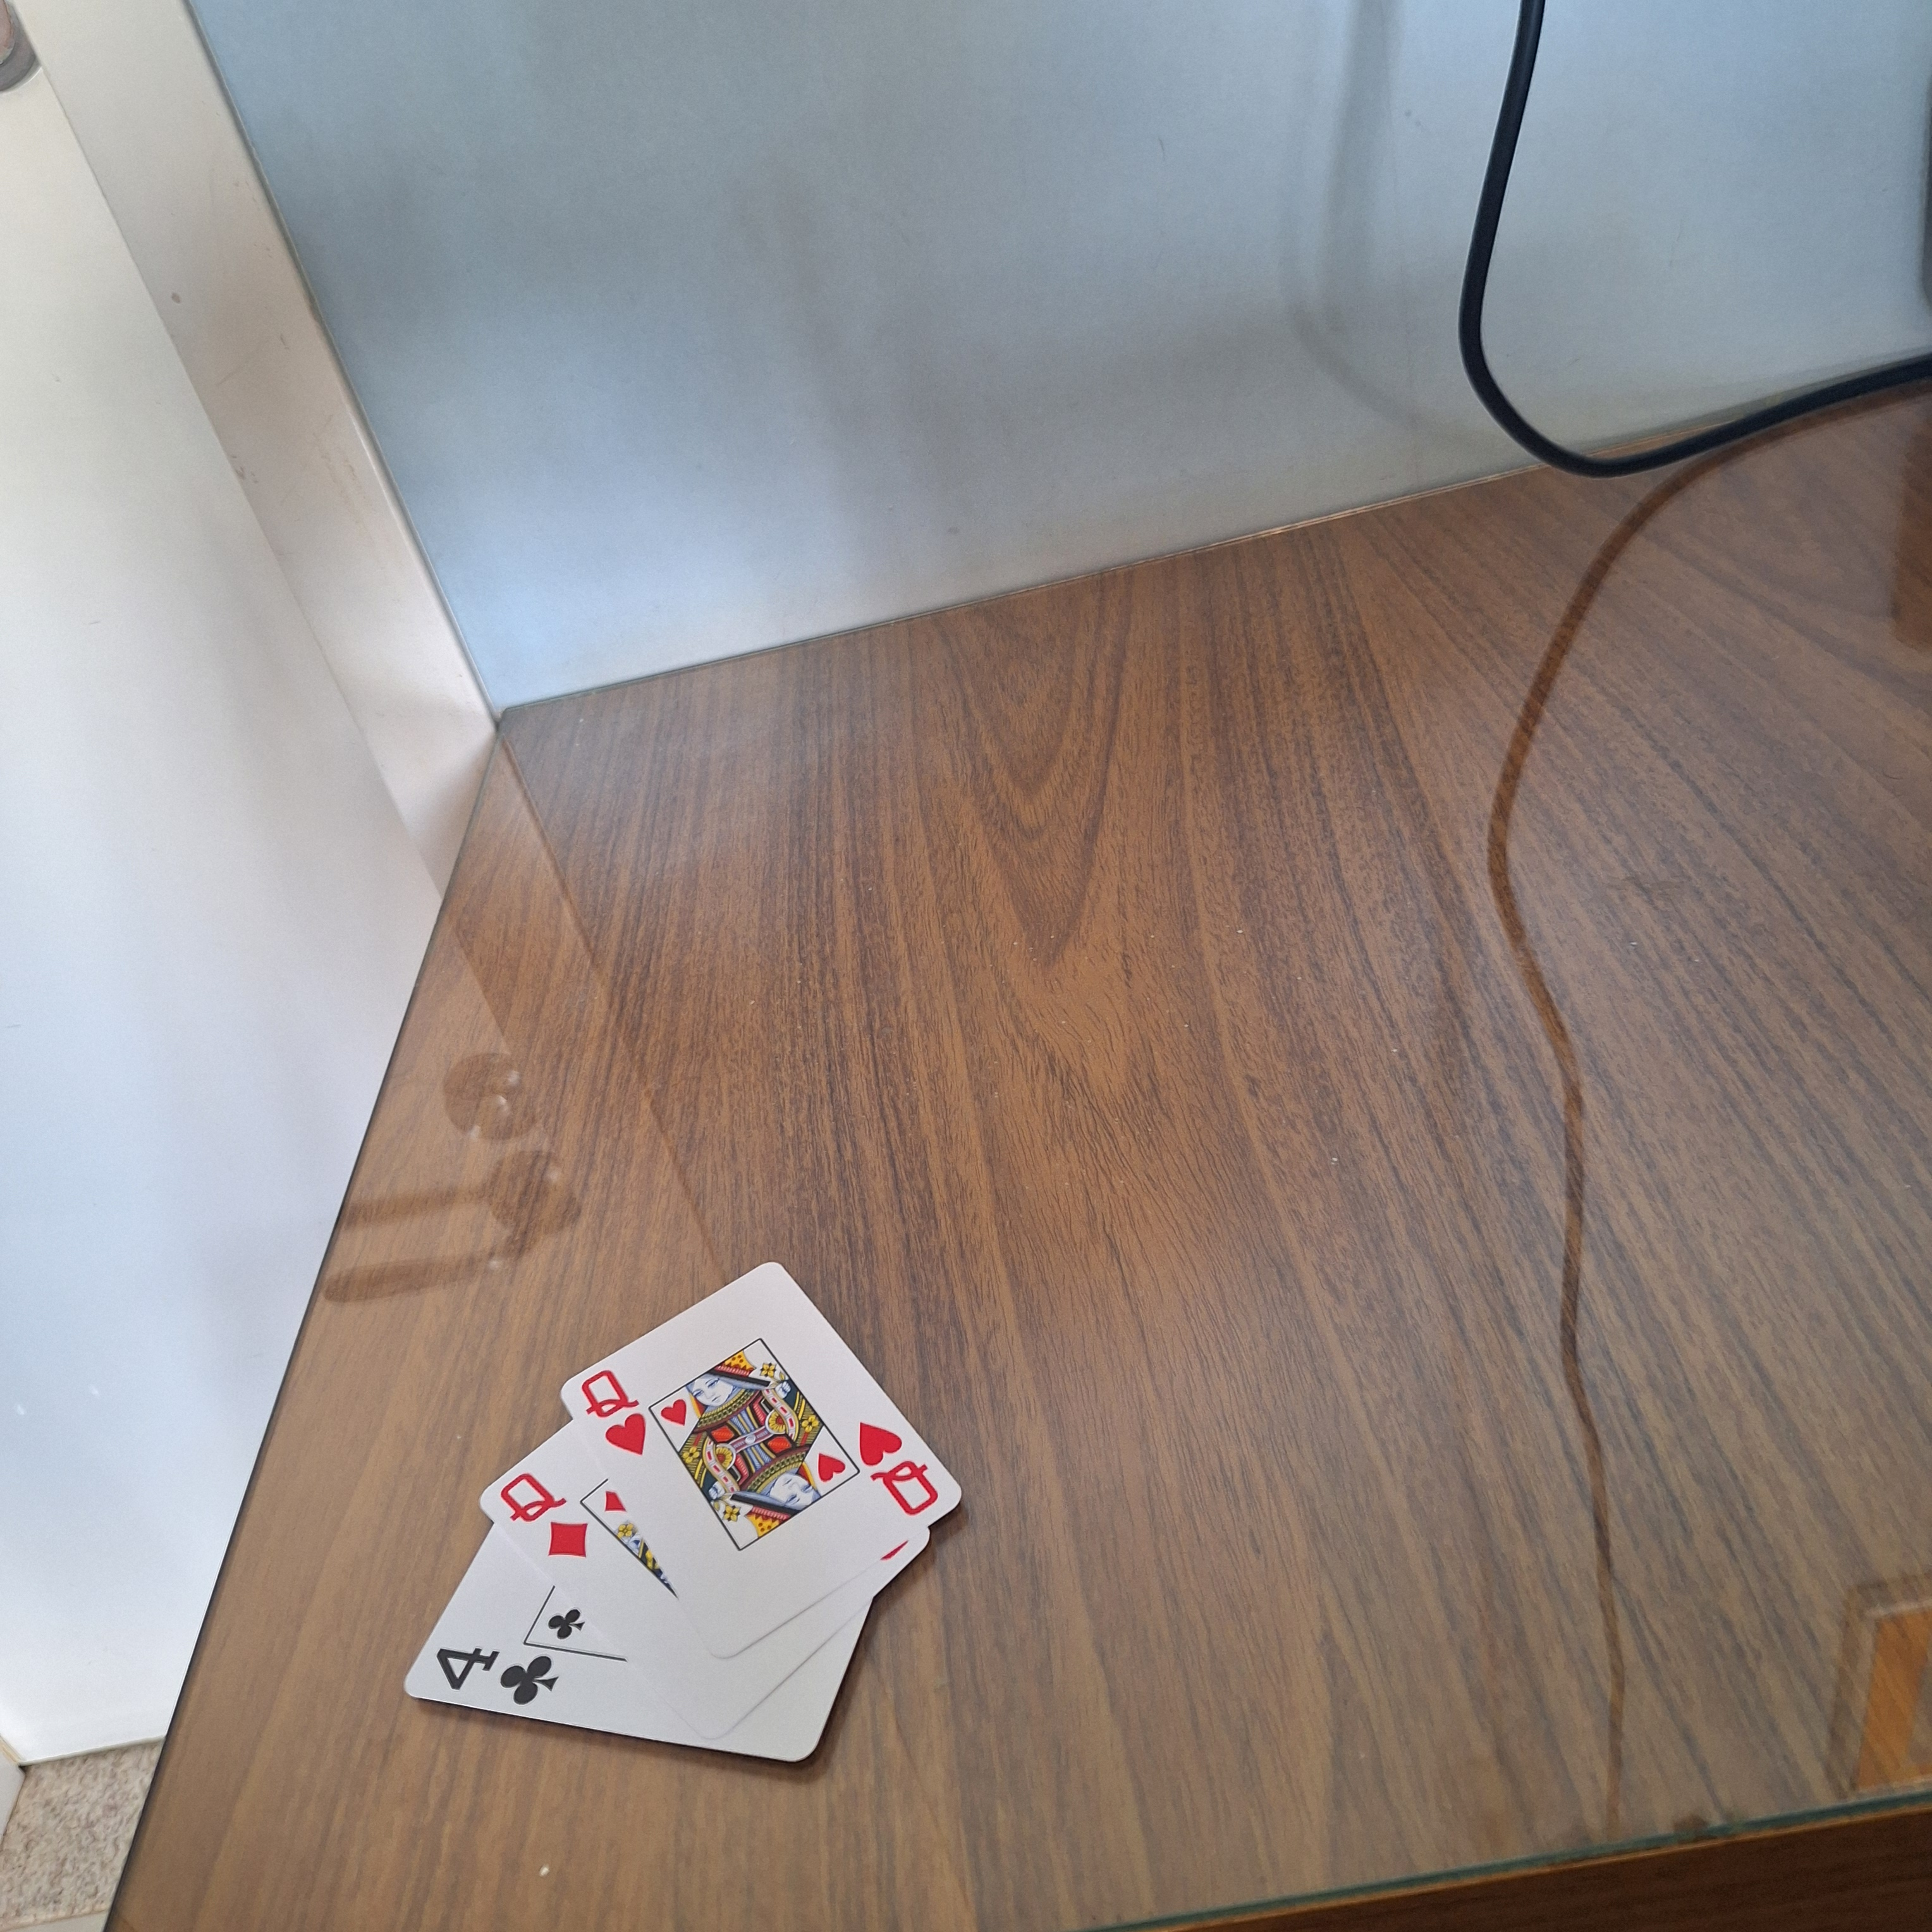4P: (423, 1637, 563, 1713)
QC: (849, 1414, 943, 1520), (577, 1364, 655, 1458)
QO: (492, 1460, 596, 1564)
